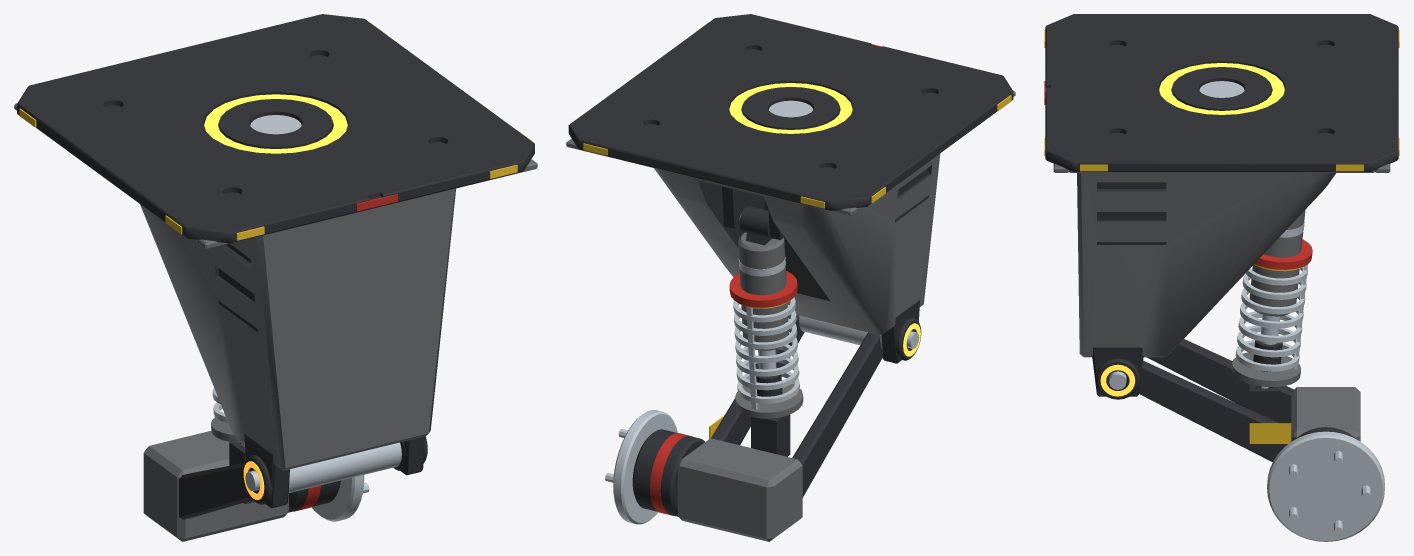
Rendered from R4M_Suspension.glb.
3 views of the same model, side by side, from view 1: azimuth 30°, elevation 25°; view 2: azimuth 150°, elevation 25°; view 3: azimuth 270°, elevation 25° (orthographic). The views are drawn at different scales.
Parts seen in each view (by area): view 1: R4M_Suspension_Tower, R4M_Suspension_Arm; view 2: R4M_Suspension_Tower, R4M_Suspension_Arm, R4M_Suspension_ShockBody, R4M_Suspension_Spring, R4M_Suspension_ShockRod; view 3: R4M_Suspension_Tower, R4M_Suspension_Arm, R4M_Suspension_Spring, R4M_Suspension_ShockBody, R4M_Suspension_ShockRod.
Part boxes in pixels (x1,y1,x2,y2): R4M_Suspension_Tower: [14, 14, 537, 508]; R4M_Suspension_Arm: [143, 431, 401, 541]; R4M_Suspension_Tower: [566, 14, 1015, 363]; R4M_Suspension_Arm: [605, 315, 919, 541]; R4M_Suspension_ShockBody: [729, 205, 797, 350]; R4M_Suspension_Spring: [733, 297, 799, 409]; R4M_Suspension_ShockRod: [735, 349, 803, 418]; R4M_Suspension_Tower: [1044, 14, 1399, 399]; R4M_Suspension_Arm: [1109, 339, 1384, 541]; R4M_Suspension_Spring: [1235, 264, 1307, 371]; R4M_Suspension_ShockBody: [1249, 210, 1312, 316]; R4M_Suspension_ShockRod: [1231, 314, 1300, 388].
Bounding box in the file's own units: 0.5126 × 0.645 × 0.5126.
